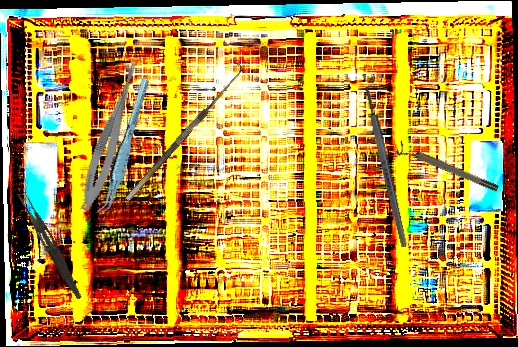Dressing Forceps: (13, 190, 88, 301)
Fixation Ring: (395, 140, 500, 198)
Hook Surgical: (118, 60, 247, 202)
Micro Scissor: (75, 51, 146, 214)
Scalpel Handle: (362, 86, 409, 248)
Tissue Forceps: (83, 77, 166, 218)
